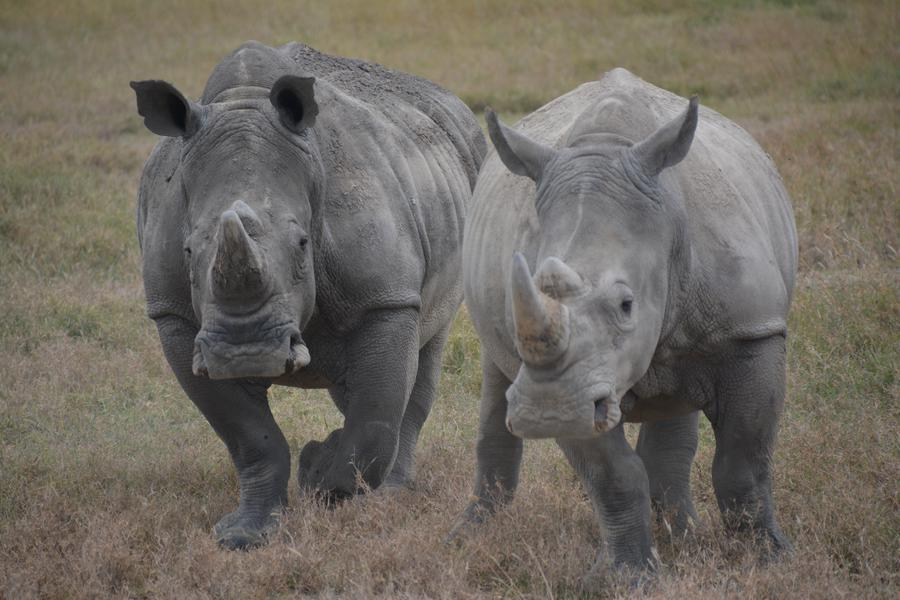rhino: (472, 57, 790, 553), (124, 43, 455, 481)
